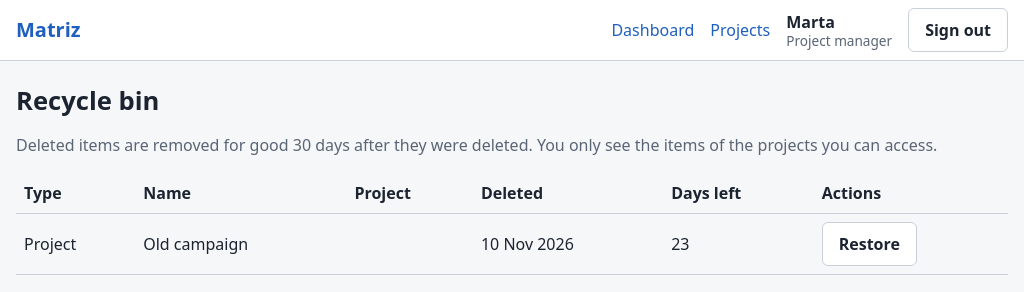
Test: the recycle bin (F09, R9, R20) › restores a project by the id of the project
The width and height of the screenshot is (1024, 292).
Expected: the heading "Recycle bin" is shown, [16, 83, 159, 118]
Click the button named "Restore Old campaign". click: click(869, 244)
box: [822, 222, 917, 266]
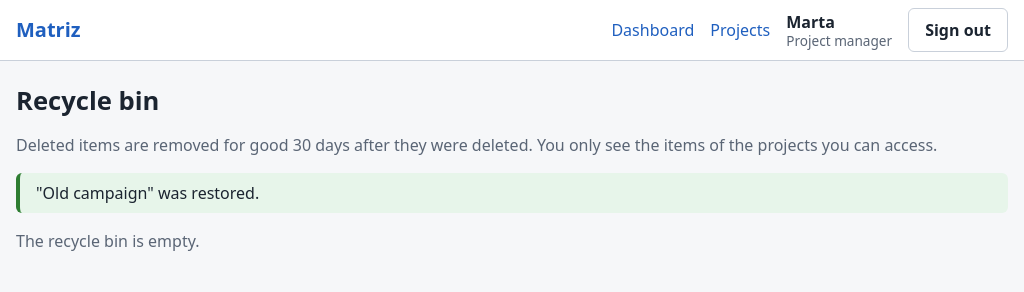
Expected: the text "\"Old campaign\" was restored." is shown, [16, 173, 1008, 213]
